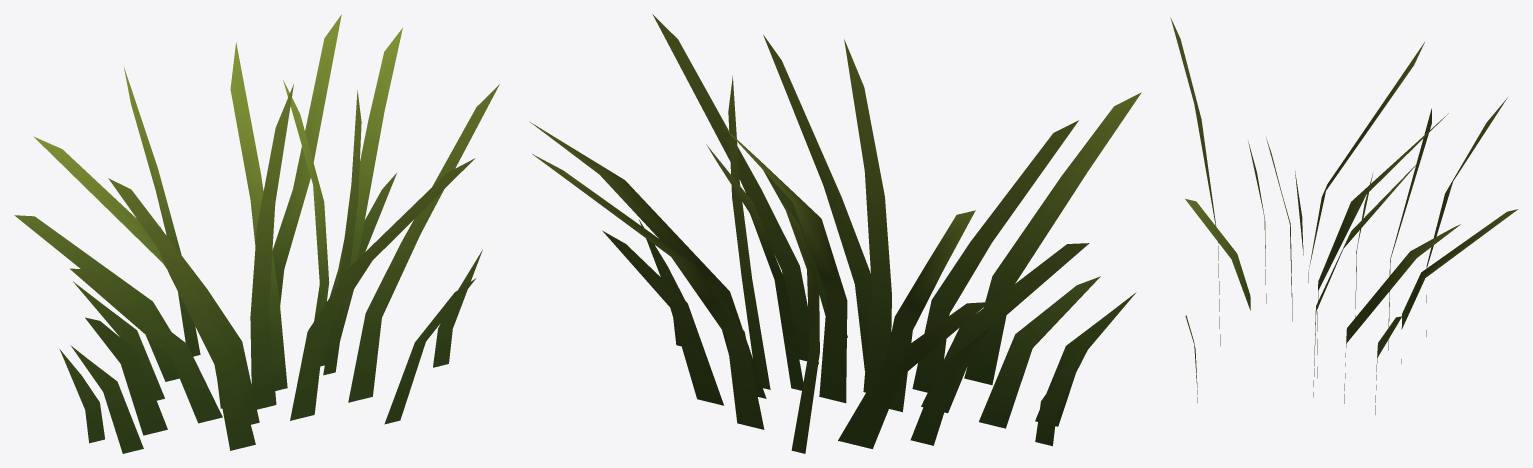
The model's file is grass_large.glb.
The picture shows the model from 3 angles, left to right: view 1: azimuth 30°, elevation 25°; view 2: azimuth 150°, elevation 25°; view 3: azimuth 270°, elevation 25°; orthographic projection. The views are drawn at different scales.
Parts seen in each view (by area): view 1: Grass_Large; view 2: Grass_Large; view 3: Grass_Large.
Boxes of the visible parts, x1,y1,x2,y2 form: Grass_Large: (14, 14, 499, 453); Grass_Large: (529, 14, 1141, 453); Grass_Large: (1170, 17, 1518, 414).
Bounding box in the file's own units: 0.7085 × 0.4851 × 0.498.
1 material, 1 textured.
